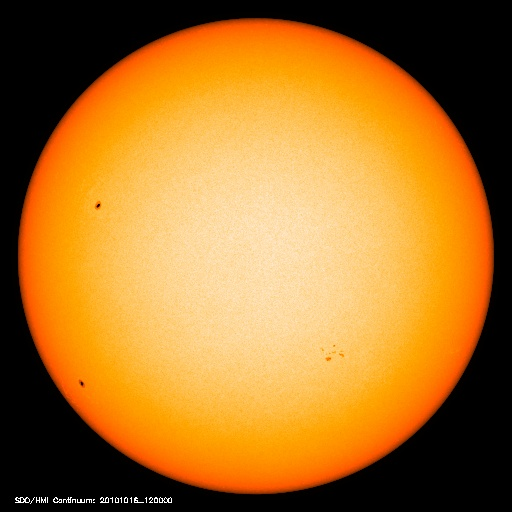sunspot: (312, 338, 355, 369), (69, 371, 93, 395), (87, 194, 110, 218)
